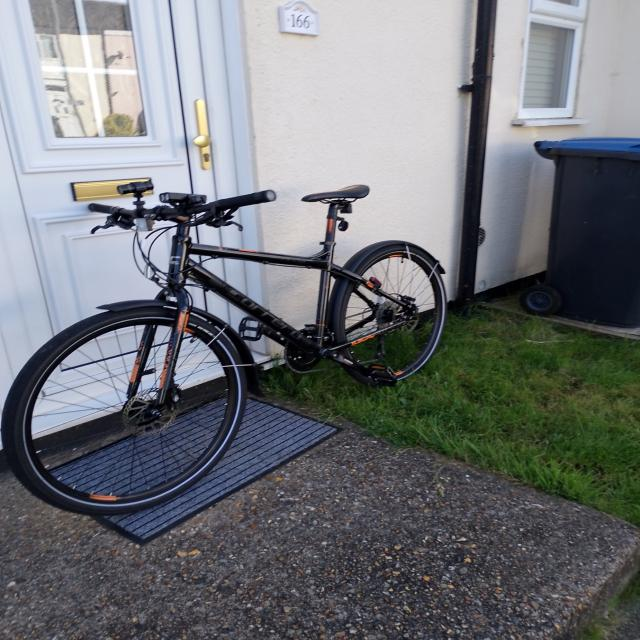bicycle: (0, 177, 461, 521)
